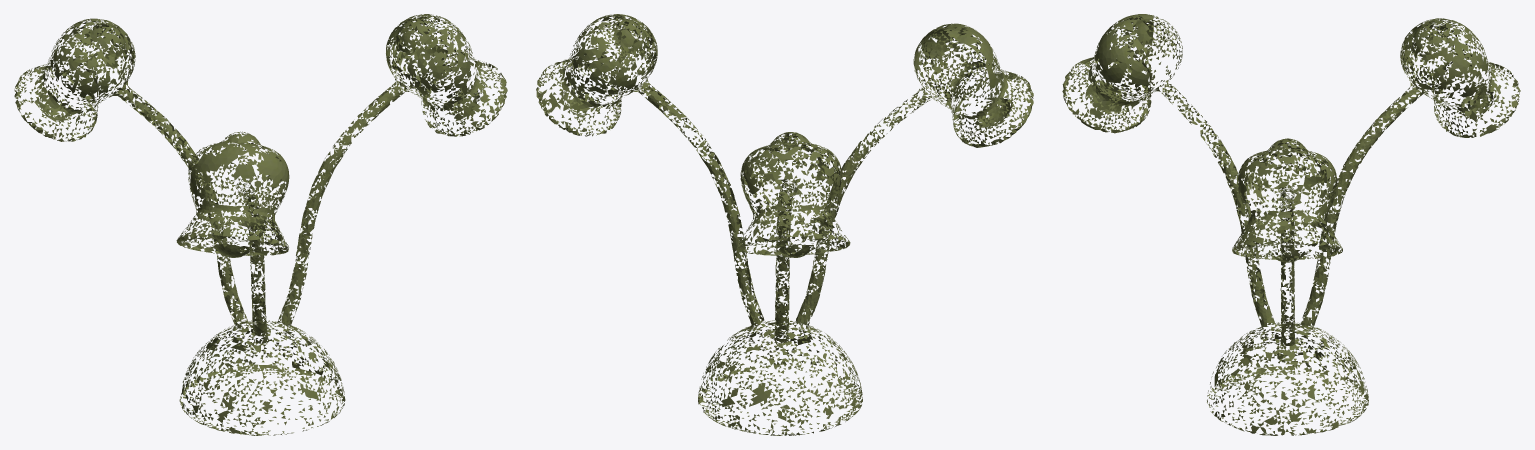
Rendered from lamp_final200.obj.
The picture shows the model from 3 angles, left to right: view 1: azimuth 30°, elevation 25°; view 2: azimuth 150°, elevation 25°; view 3: azimuth 270°, elevation 25°; orthographic projection.
Bounding box in the file's own units: 1.59 × 1.32 × 1.62.
